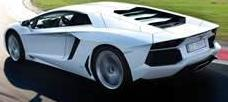back_view: (145, 19, 223, 80)
backlight: (151, 38, 186, 55)
side_glass: (29, 11, 96, 30)
